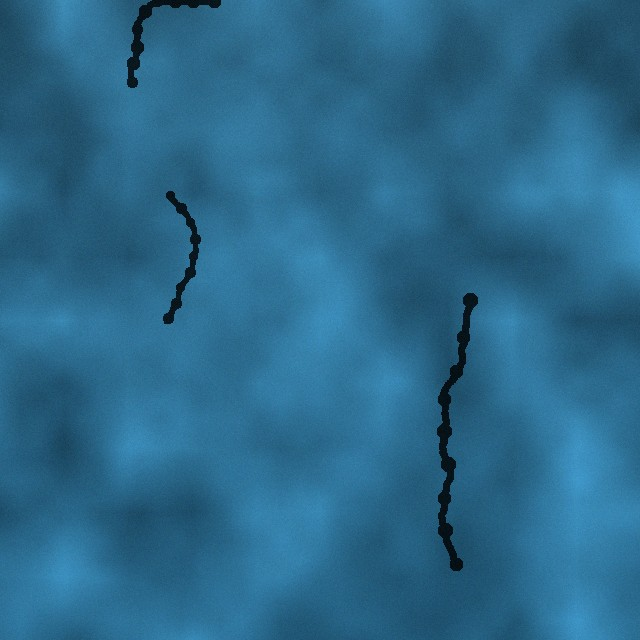crack: (433, 293, 477, 571), (124, 0, 225, 88), (160, 190, 201, 326)
